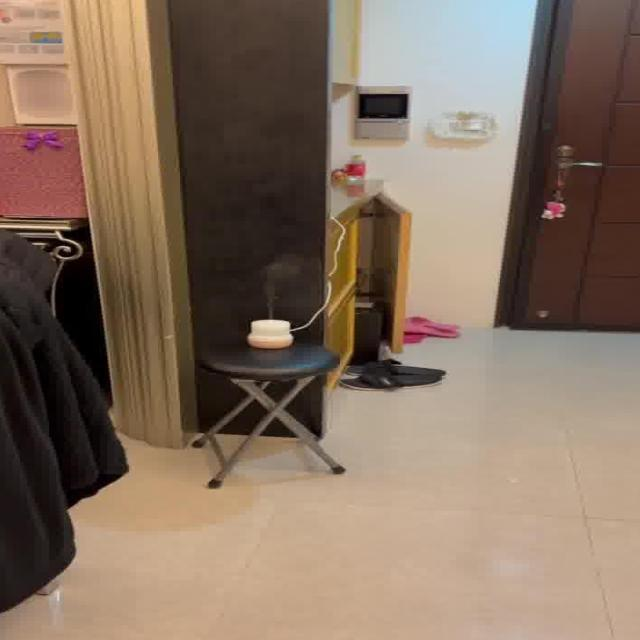fire: (254, 253, 311, 312)
